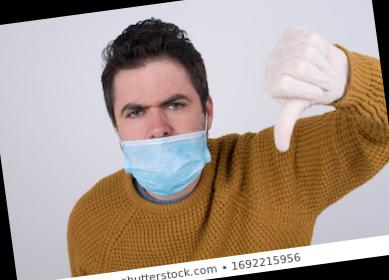mask_weared_incorrect: (113, 81, 213, 202)
